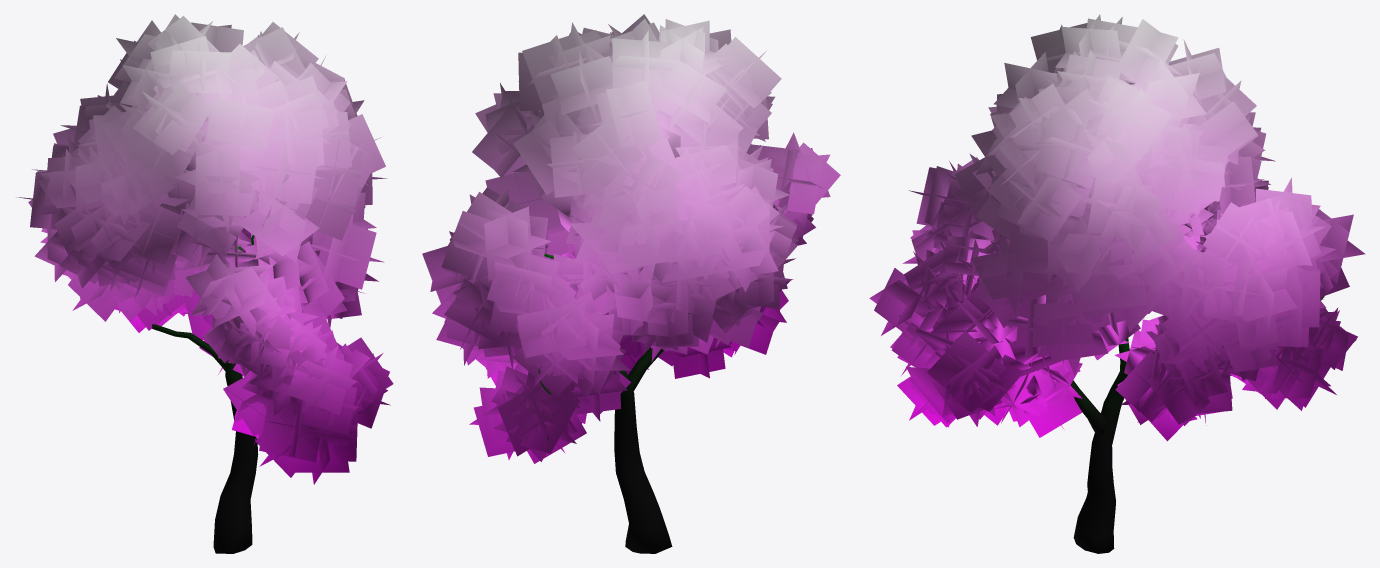
File: TSI_Broadleaf_Tree_05A.fbx
3 views of the same model, side by side, from view 1: azimuth 30°, elevation 25°; view 2: azimuth 150°, elevation 25°; view 3: azimuth 270°, elevation 25° (orthographic). The views are drawn at different scales.
Visible parts, largest first — view 1: TSI_Broadleaf_Tree_05A_LOD0; view 2: TSI_Broadleaf_Tree_05A_LOD0; view 3: TSI_Broadleaf_Tree_05A_LOD0.
Boxes of the visible parts, <box> form: TSI_Broadleaf_Tree_05A_LOD0: <box>16,14,393,553</box>; TSI_Broadleaf_Tree_05A_LOD0: <box>422,14,840,553</box>; TSI_Broadleaf_Tree_05A_LOD0: <box>869,14,1365,553</box>.
Bounding box in the file's own units: 891 × 1429 × 1246.
